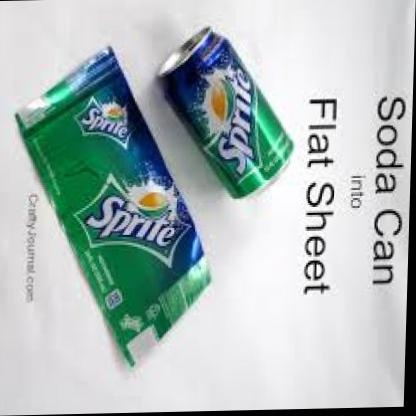trash: (16, 48, 209, 365), (159, 27, 292, 197)
